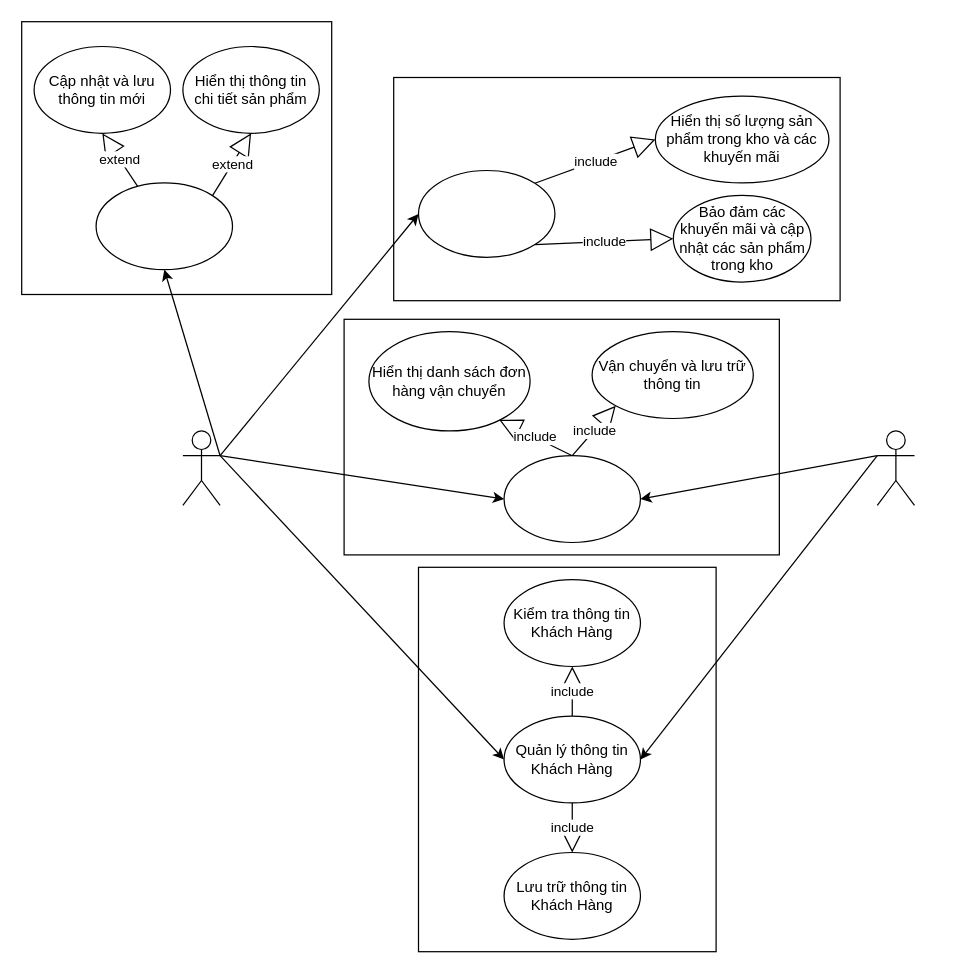
Some shapes in this 959 by 973 pixel diagram are drawn without their labels. Here are the shapes that lost their labels. From the top down, the centre of each, then its label:
At point (163, 226): "Quản lý thông tin sản phẩm".
At point (486, 213): "Giám sát kho và khuyến mãi".
At point (201, 467): "Người bán, admin".
At point (895, 467): "Khách Hàng".
At point (571, 498): "Quản lý thông tin giao hàng và thanh toán".
